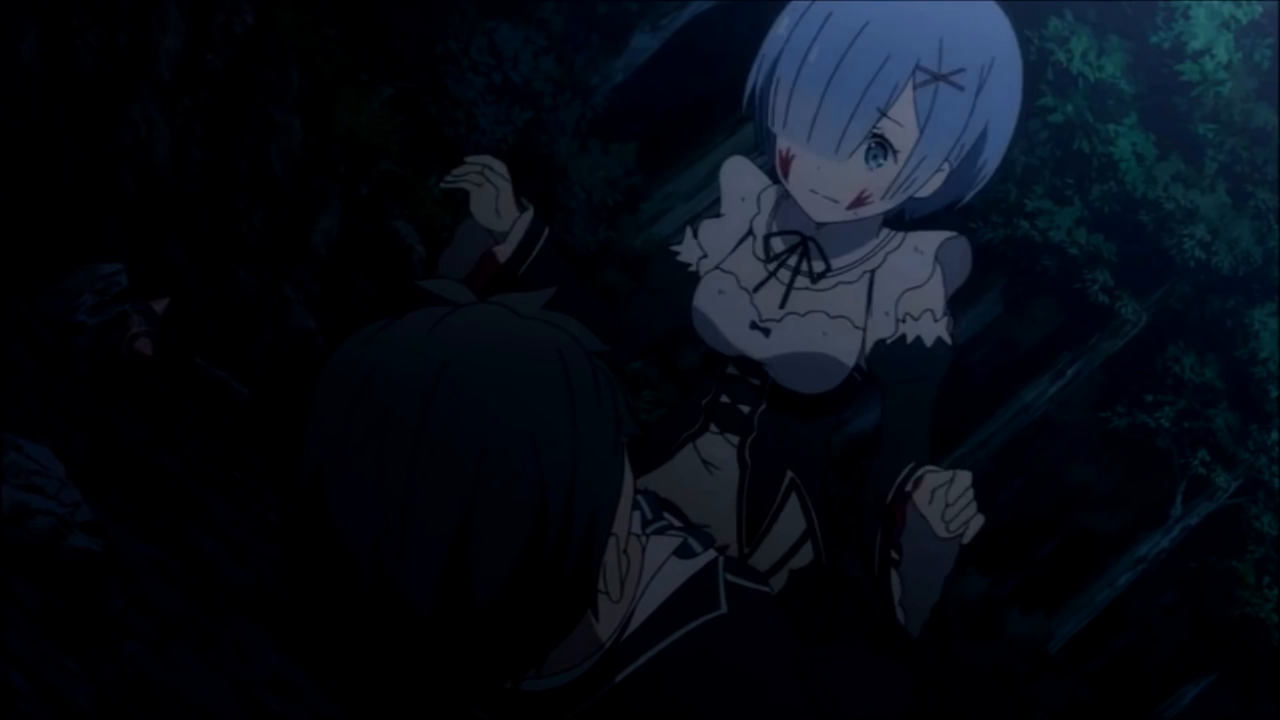REM: (735, 1, 1031, 230)
